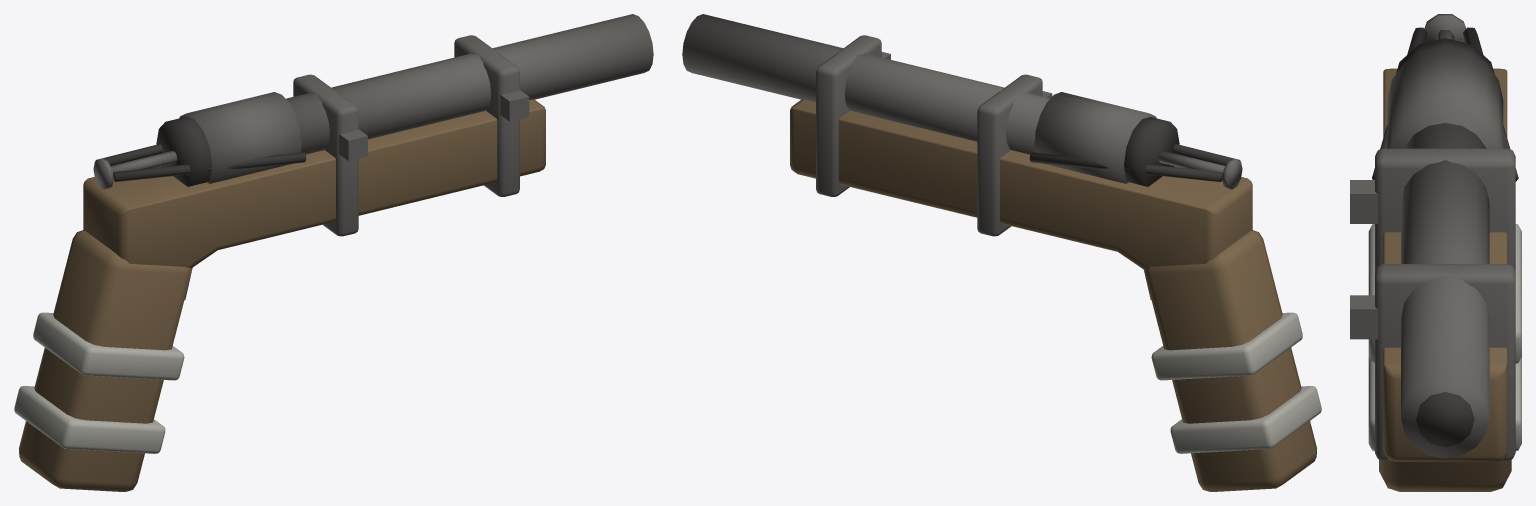
Rendered from gun_zip.glb.
3 views of the same model, side by side, from view 1: azimuth 30°, elevation 25°; view 2: azimuth 150°, elevation 25°; view 3: azimuth 270°, elevation 25° (orthographic). The views are drawn at different scales.
Parts seen in each view (by area): view 1: frame, grip, pipe, coupling, tape_1, tape_0, clamp_1, clamp_0, cap, band_0, clamp_screw_1, clamp_screw_0 (+1 smaller); view 2: frame, grip, pipe, coupling, tape_1, tape_0, clamp_0, clamp_1, cap, band_2, nail; view 3: pipe, coupling, clamp_1, frame, clamp_0, grip, bore, tape_0, clamp_screw_1, tape_1, clamp_screw_0, cap (+3 smaller).
Part boxes in pixels (x1,y1,x2,y2): frame: [83, 99, 545, 268]; grip: [19, 230, 191, 491]; pipe: [286, 14, 653, 154]; coupling: [179, 92, 301, 183]; tape_1: [14, 386, 165, 453]; tape_0: [33, 312, 184, 380]; clamp_1: [454, 35, 519, 196]; clamp_0: [293, 74, 358, 236]; cap: [156, 117, 211, 186]; band_0: [113, 152, 306, 181]; clamp_screw_1: [500, 90, 529, 121]; clamp_screw_0: [339, 129, 367, 161]; frame: [790, 99, 1252, 270]; grip: [1144, 230, 1316, 491]; pipe: [682, 14, 1049, 154]; coupling: [1034, 92, 1156, 183]; tape_1: [1170, 386, 1321, 453]; tape_0: [1151, 312, 1302, 380]; clamp_0: [977, 74, 1042, 236]; clamp_1: [816, 35, 881, 196]; cap: [1124, 117, 1179, 186]; band_2: [1029, 152, 1222, 181]; nail: [1158, 151, 1225, 173]; pipe: [1401, 123, 1489, 458]; coupling: [1387, 47, 1503, 148]; clamp_1: [1375, 264, 1515, 460]; frame: [1383, 68, 1507, 461]; clamp_0: [1375, 148, 1515, 270]; grip: [1379, 459, 1511, 491]; bore: [1416, 392, 1474, 447]; tape_0: [1368, 224, 1521, 363]; clamp_screw_1: [1350, 295, 1378, 339]; tape_1: [1368, 356, 1521, 451]; clamp_screw_0: [1350, 180, 1378, 223]; cap: [1396, 38, 1494, 73].
Bounding box in the file's own units: 0.3351 × 0.181 × 0.056.
